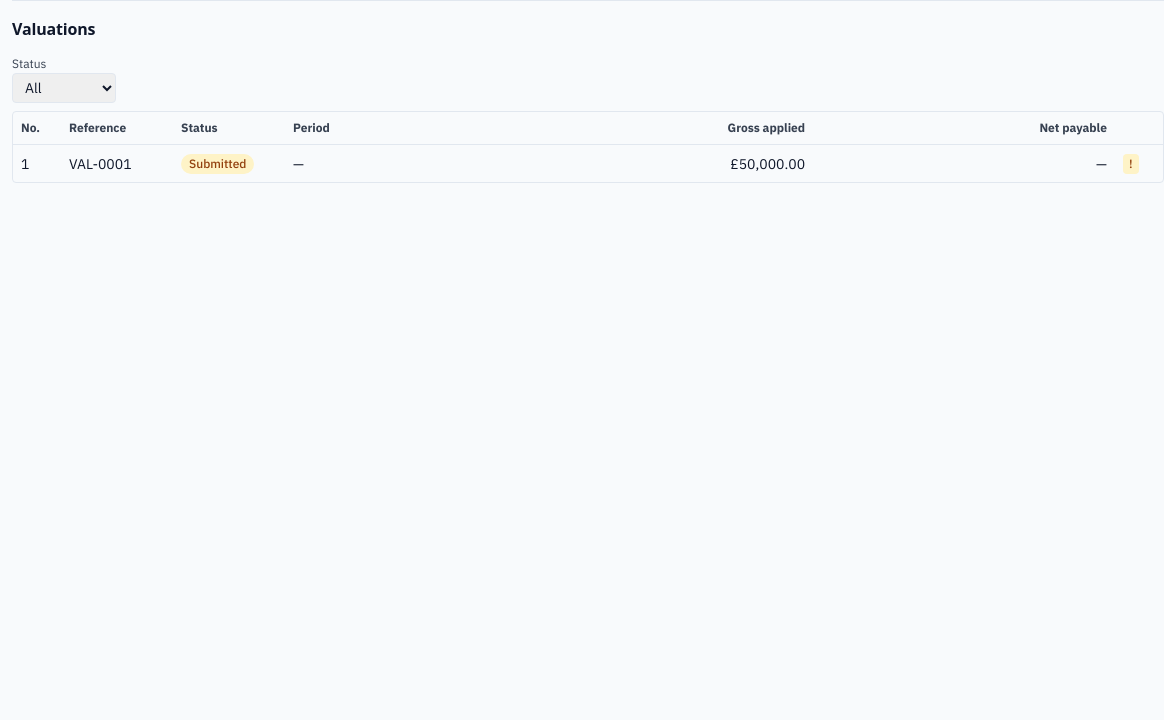
Test: detail: non-sensitive user sees em-dash for 5 sensitive fields; retention_rate + over_claim are still visible
Click the row with test id "valuations-row-V1".
click(100, 164)  # box 13,144 -> 1163,182
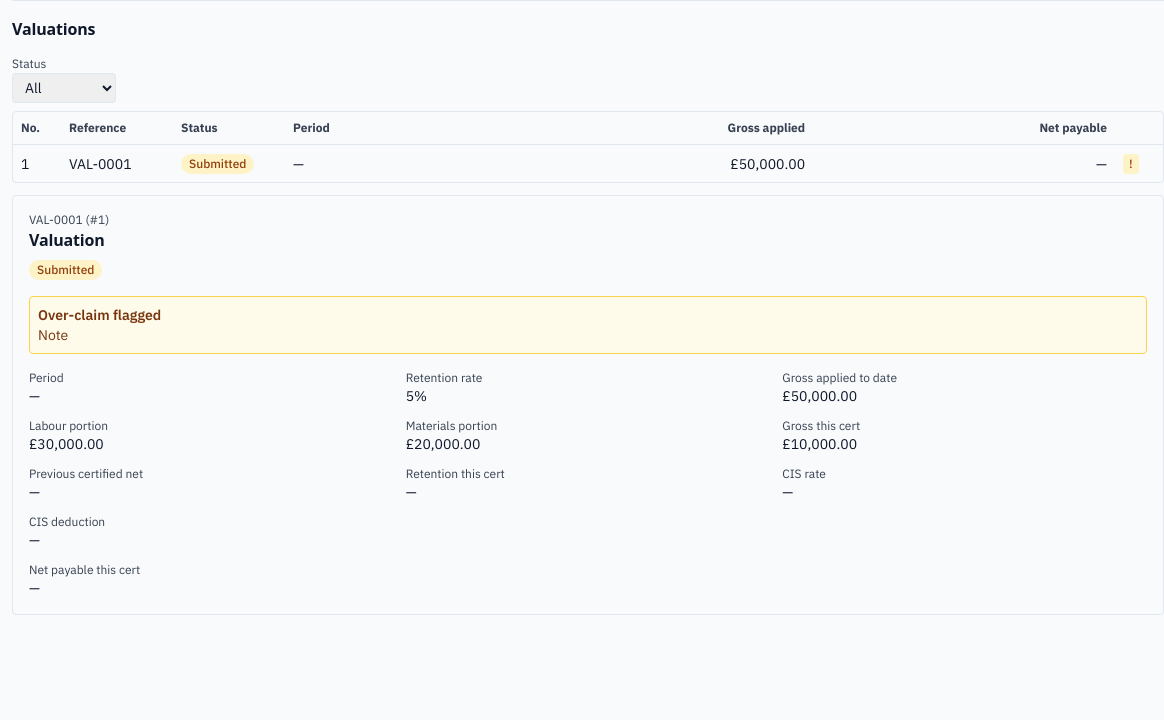
Now the text with test id "valuation-detail-prev-net" reads "—", box 29,483 -> 40,501
Now the text with test id "valuation-detail-retention" reads "—", box 406,483 -> 417,501
Now the text with test id "valuation-detail-cis-rate" reads "—", box 782,483 -> 793,501
